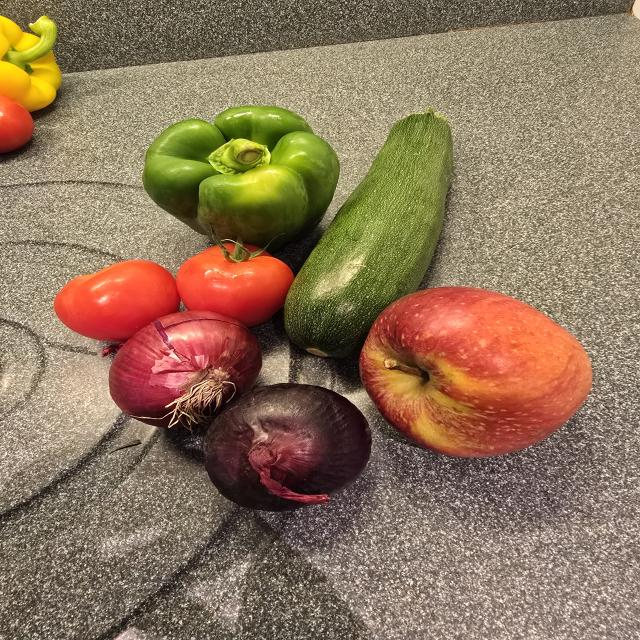Apple: (360, 287, 592, 457)
Bell Pepper: (143, 106, 339, 251)
Courgette: (284, 109, 452, 358)
Onion: (204, 384, 372, 511), (109, 311, 262, 429)
Tomato: (54, 260, 180, 342), (176, 242, 294, 327)
